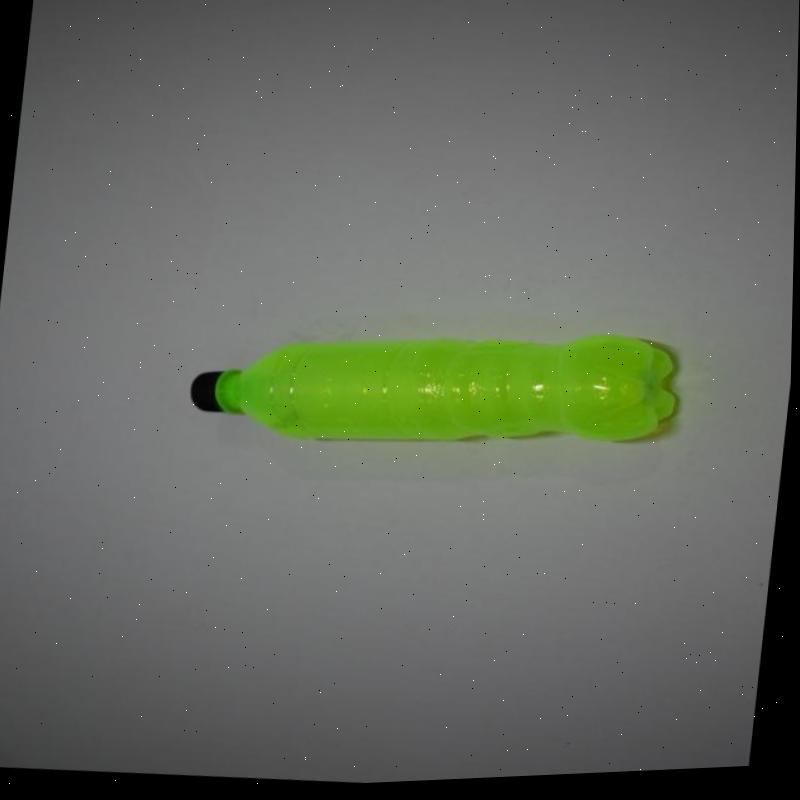botella: (187, 302, 689, 477)
